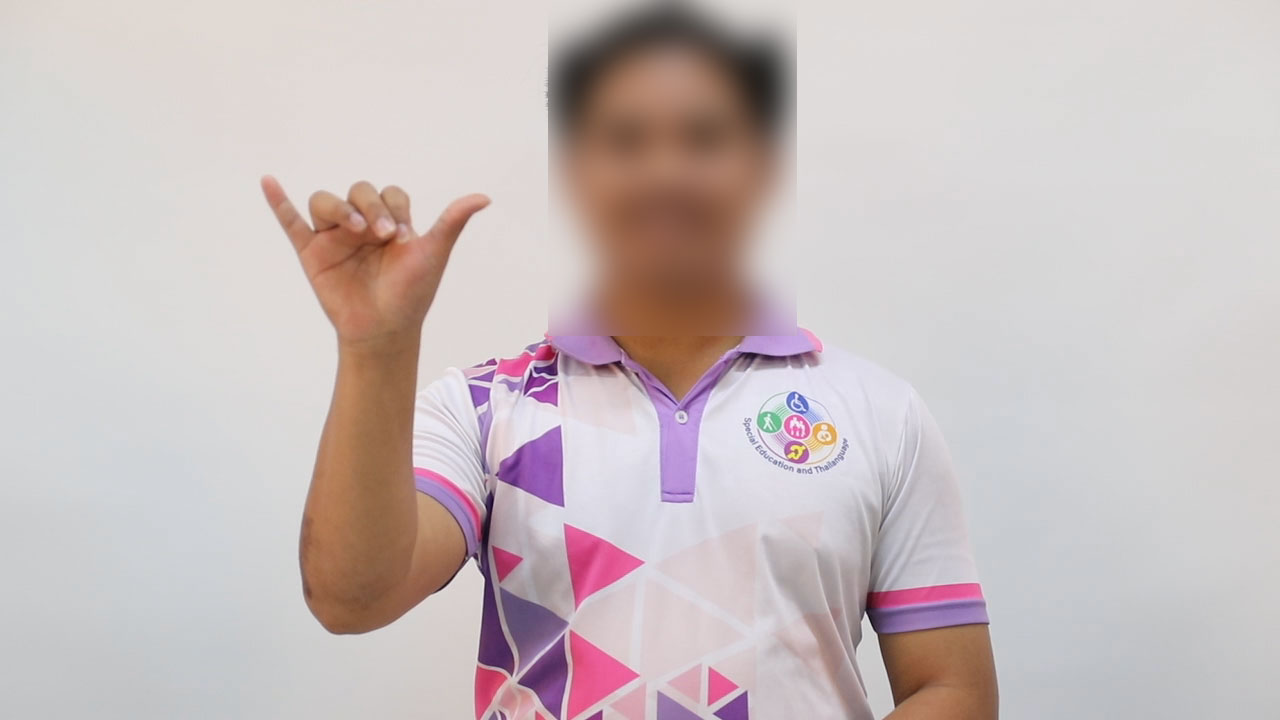yor: (238, 166, 511, 358)
